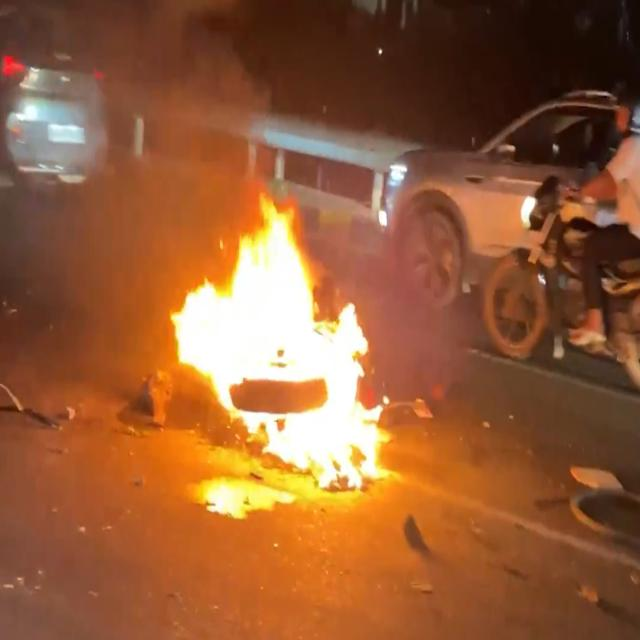fire: (171, 193, 392, 487)
